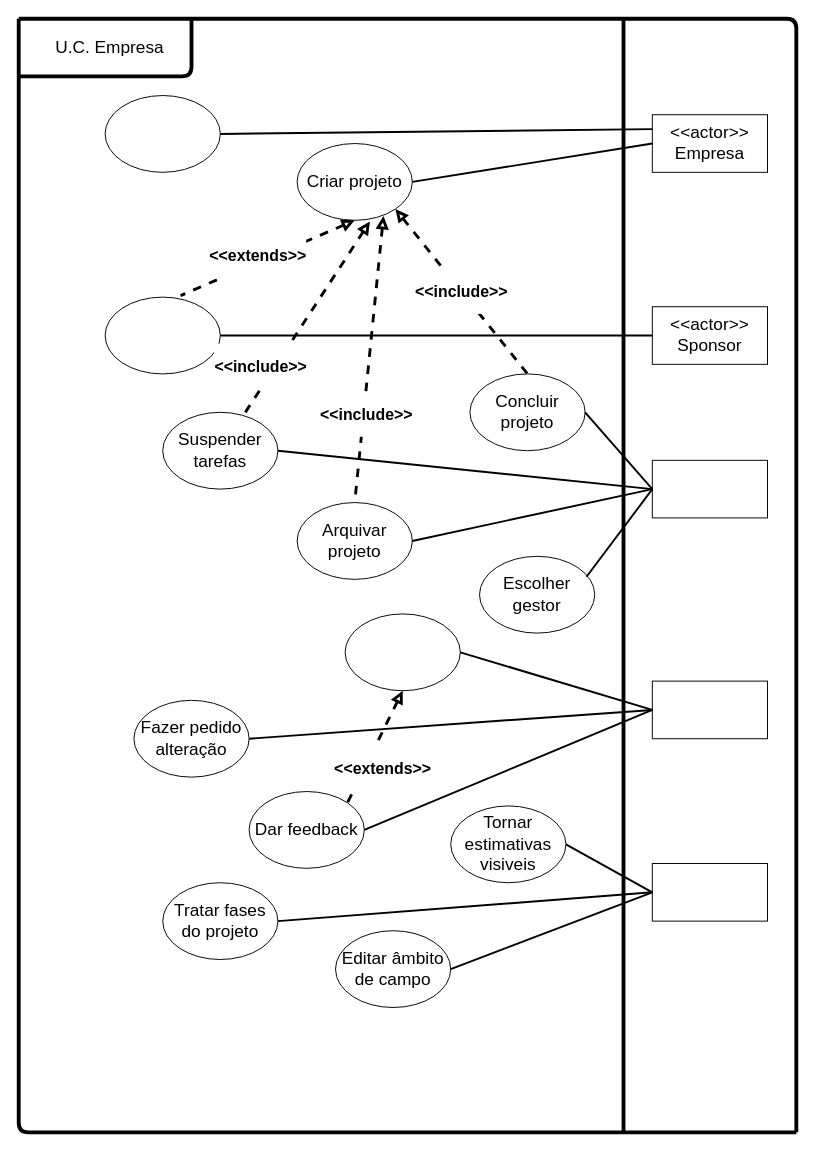
This 815x1151 diagram has some shape labels left out. The shapes that lost their labels are listed below. From the top down, each one's box as (x1, y1, x2, y2) in pixels, then its label:
(104, 95, 220, 172): Gerir portfólio
(104, 296, 220, 374): Pagar projeto
(651, 459, 768, 518): <<actor>> Líder
(344, 613, 460, 691): Beneficiar do produto
(651, 680, 768, 739): <<actor>> Cliente
(651, 863, 768, 921): <<actor>> Gestor
